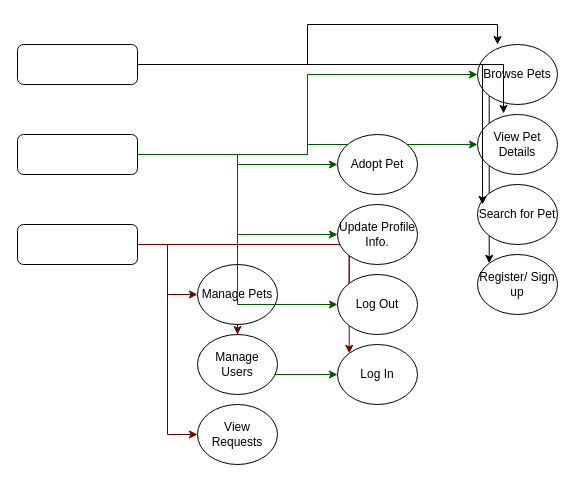
The diagram is 575 pixels wide and 482 high, and some of its shapes have lost their labels. The shapes that lost their labels are listed below. From the top down, each one's centre as x and y in pixels, then its label:
point 77,64: Visitor
point 77,154: Registered User
point 77,244: Admin
